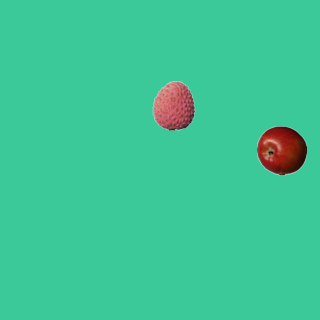Apple Braeburn: (256, 125, 306, 175)
Lychee: (148, 80, 198, 130)
